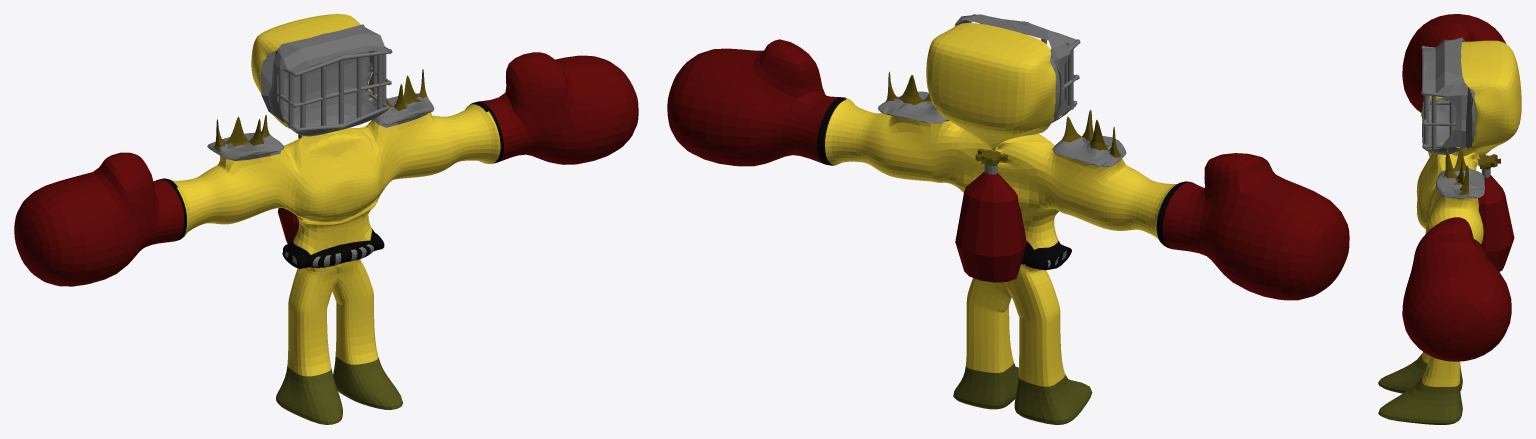
Rendered from The_Captain_proto2.fbx.
3 renders of one model, left to right at view 1: azimuth 30°, elevation 25°; view 2: azimuth 150°, elevation 25°; view 3: azimuth 270°, elevation 25°, orthographic. The views are drawn at different scales.
Parts seen in each view (by area): view 1: Cube; view 2: Cube; view 3: Cube.
Boxes of the visible parts, x1,y1,x2,y2 form: Cube: [14, 14, 638, 424]; Cube: [667, 14, 1349, 424]; Cube: [1378, 14, 1521, 424].
Bounding box in the file's own units: 44.99 × 25.37 × 9.5.
